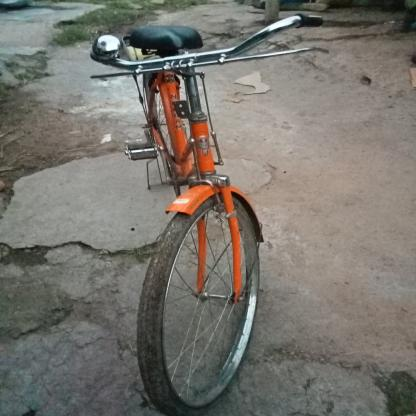bicycle: (54, 3, 366, 416)
